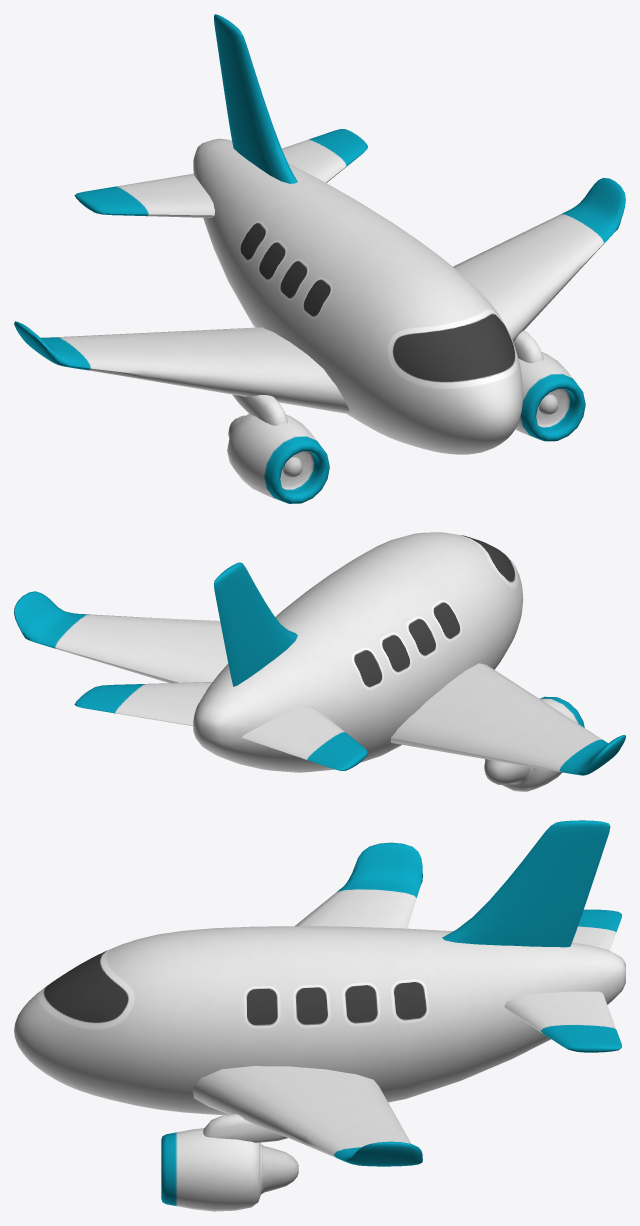
File: toy_airplane2.glb
The picture shows the model from 3 angles, top to bottom: view 1: azimuth 30°, elevation 25°; view 2: azimuth 150°, elevation 25°; view 3: azimuth 270°, elevation 25°; orthographic projection. The views are drawn at different scales.
Parts seen in each view (by area): view 1: toy_airplane; view 2: toy_airplane; view 3: toy_airplane.
Boxes of the visible parts, <box> form: toy_airplane: <box>14,14,625,503</box>; toy_airplane: <box>14,532,625,791</box>; toy_airplane: <box>14,820,625,1211</box>.
Size of the model in its own units: 6.74 by 3.37 by 5.79.
Materials: 1 (1 with a texture image).
